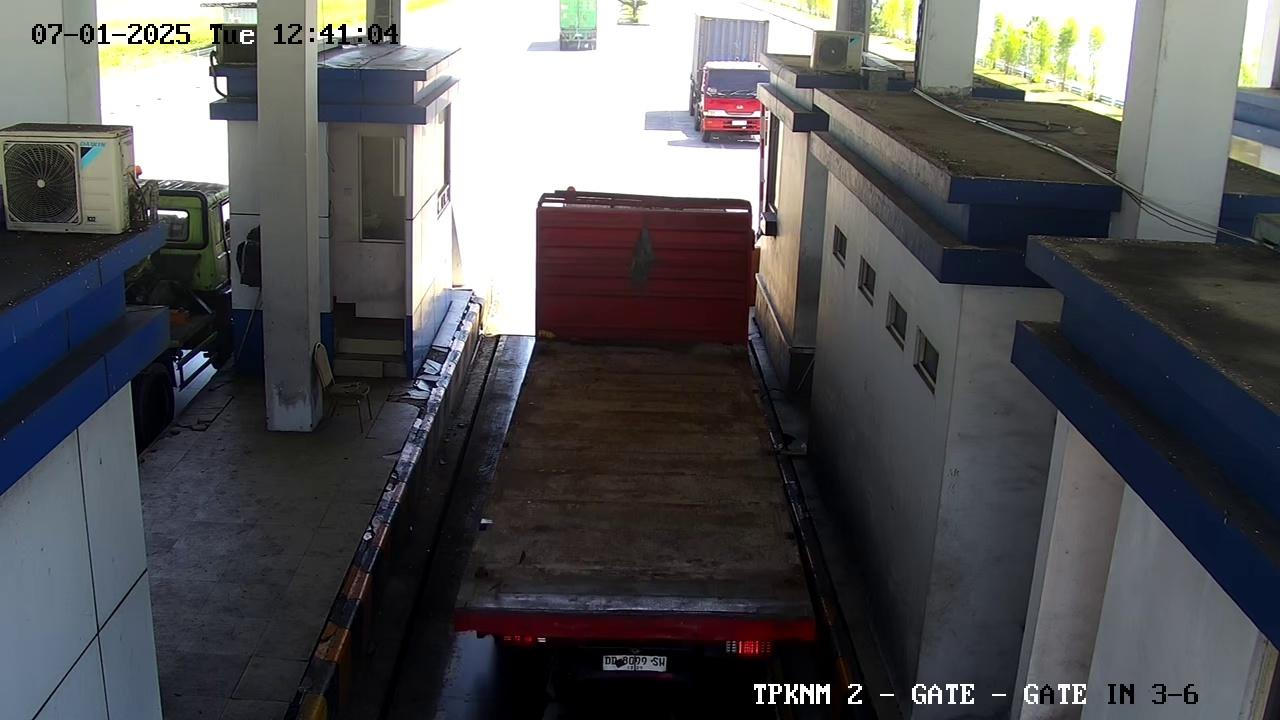plate_number: (589, 650, 685, 679)
